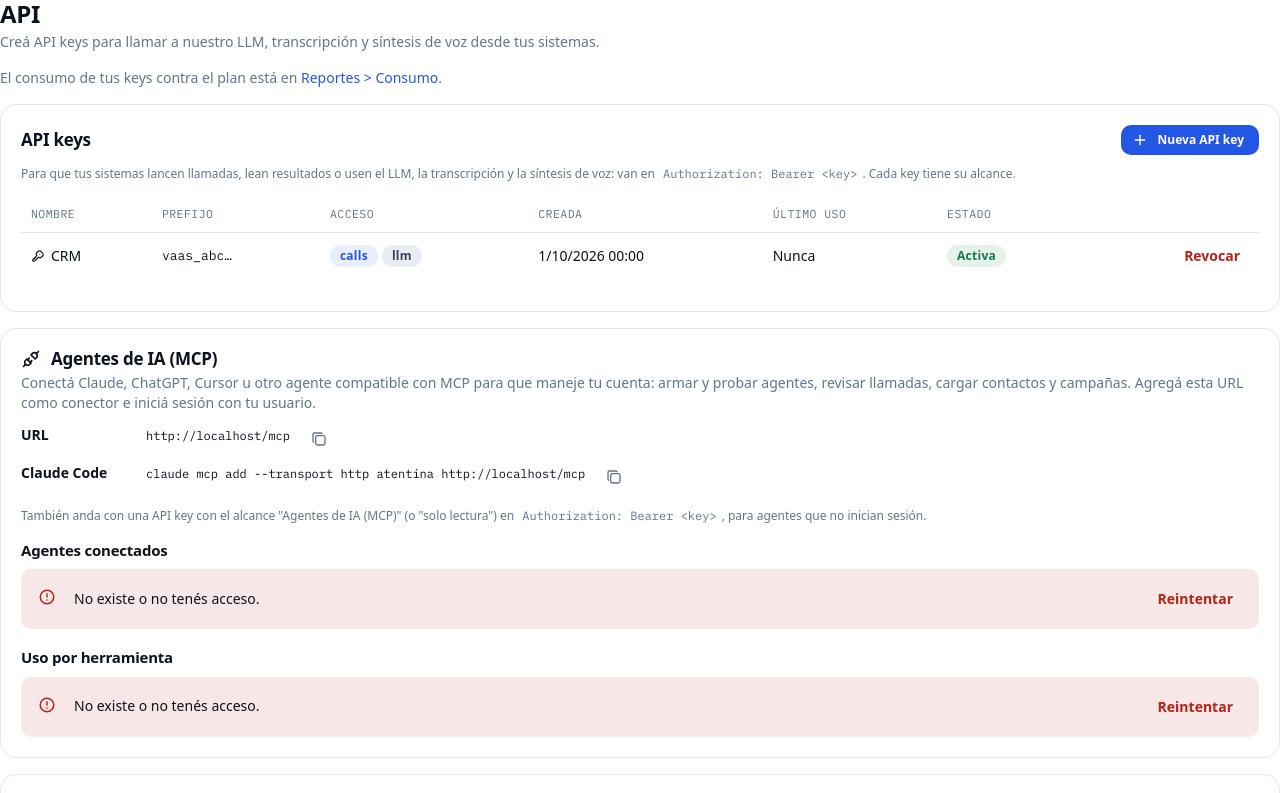
Scenario: DevelopersPage › crea una key con el alcance elegido y muestra los ejemplos de esos motores
Click the button "Nueva API key": click(1190, 140) [1121, 125, 1259, 155]
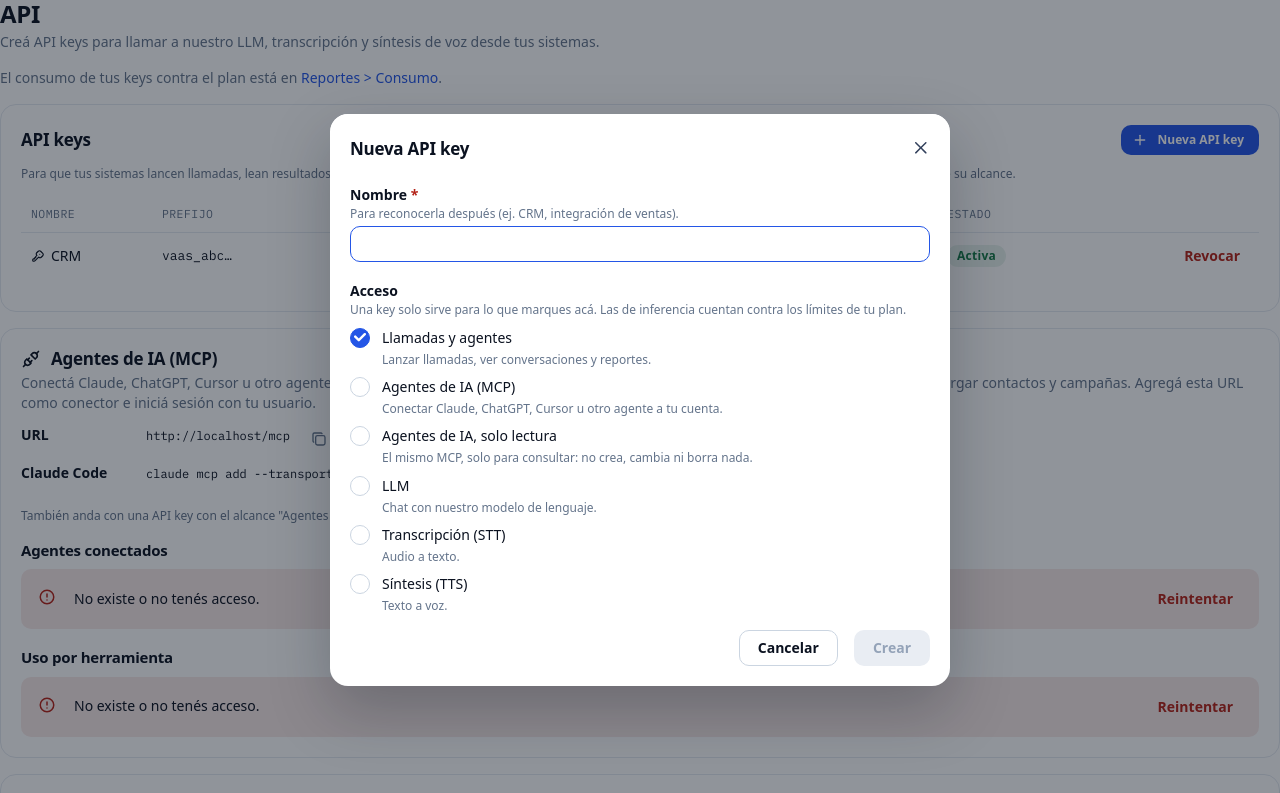
In the field labelled "Nombre *": (640, 244) [350, 226, 930, 262], type "Bot"
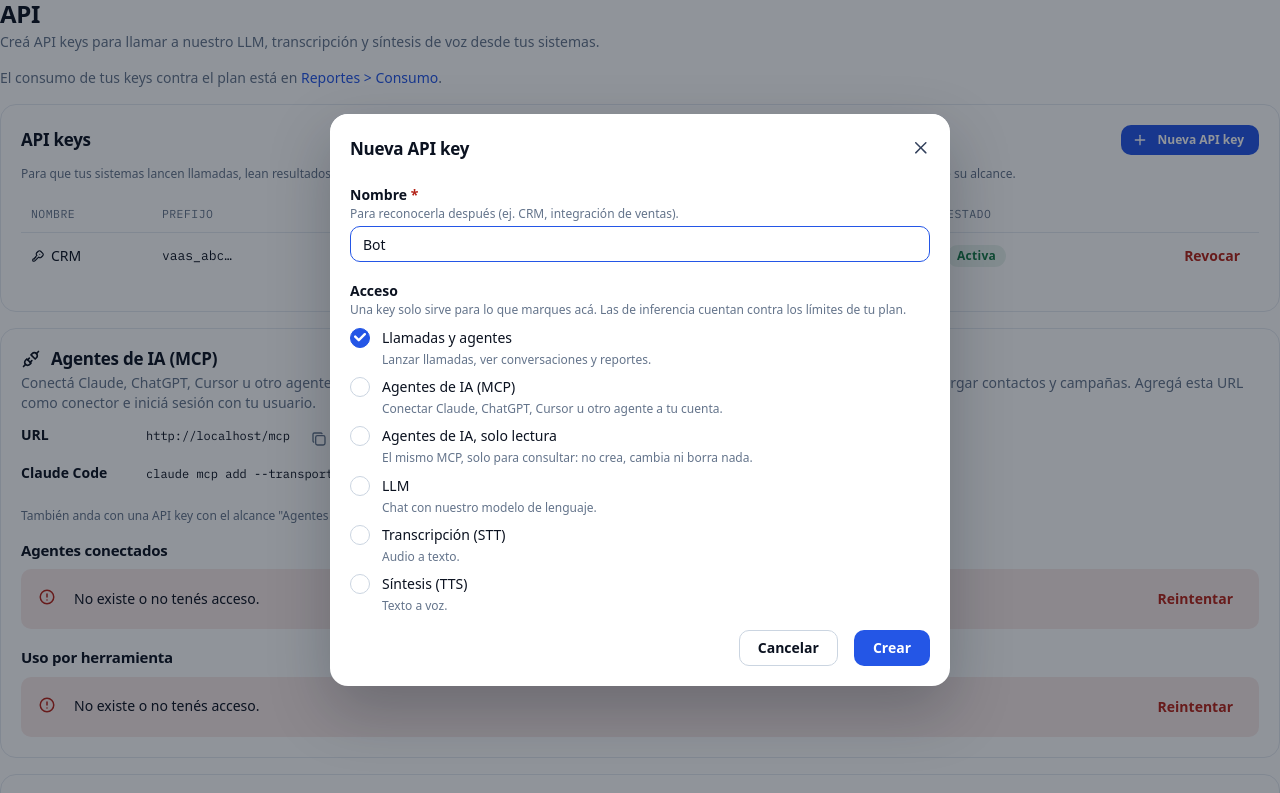
Click the checkbox labelled "Transcripción (STT)": click(360, 535) [350, 525, 370, 545]
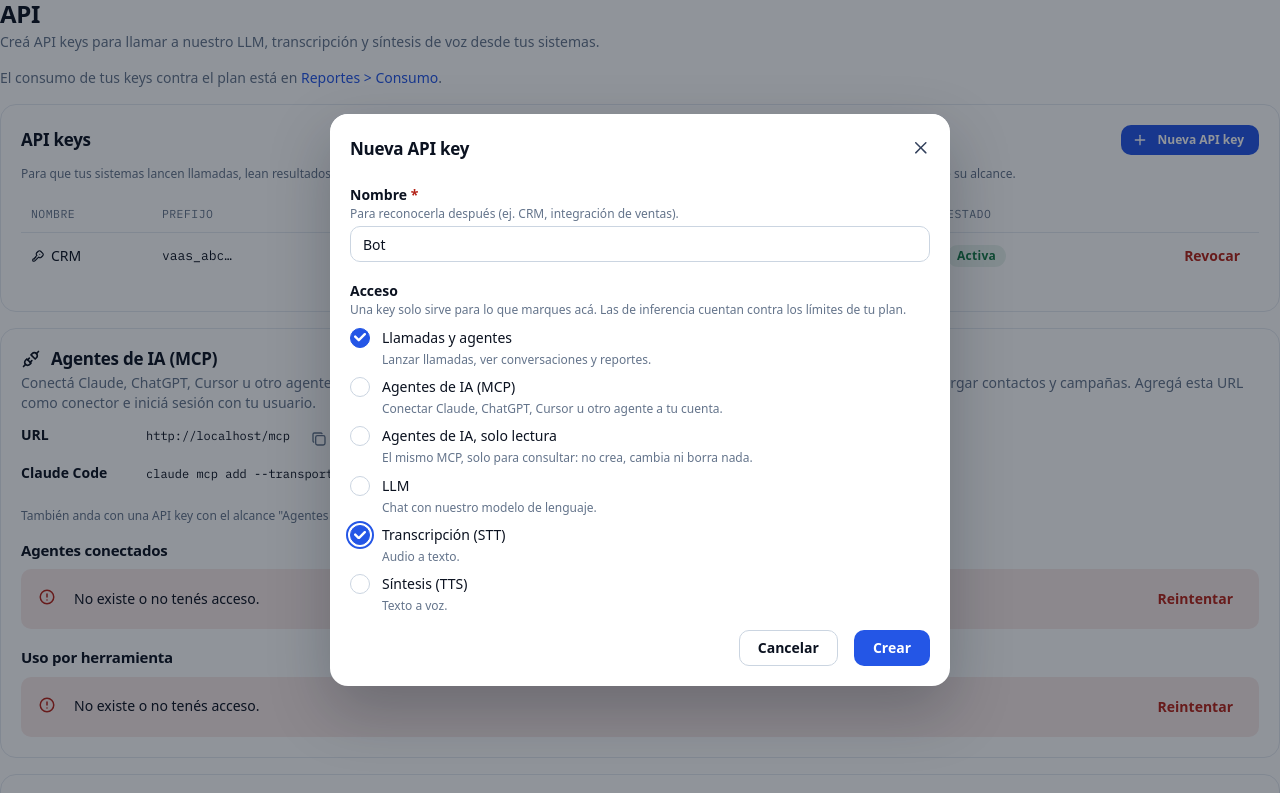
Click the checkbox labelled "Síntesis (TTS)": click(360, 584) [350, 574, 370, 594]
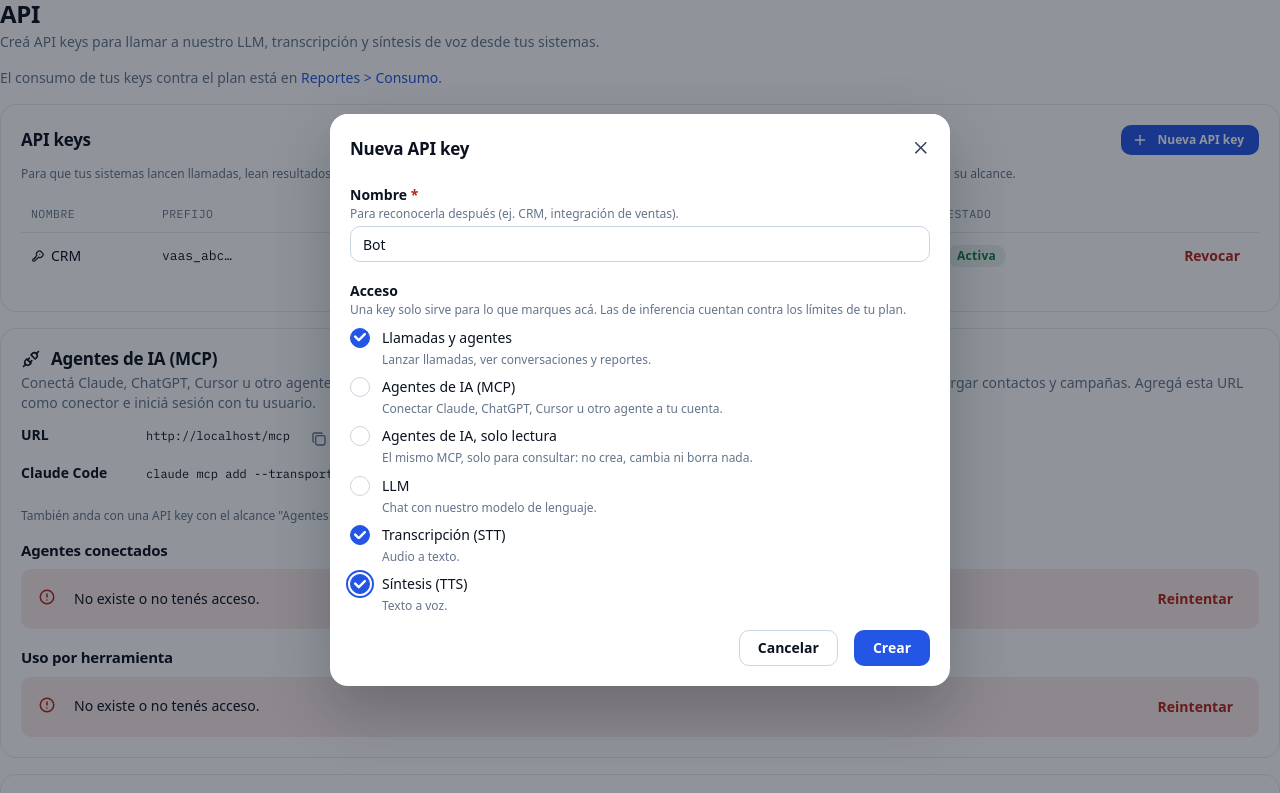
Click the checkbox labelled "Llamadas y agentes": click(360, 338) [350, 328, 370, 348]
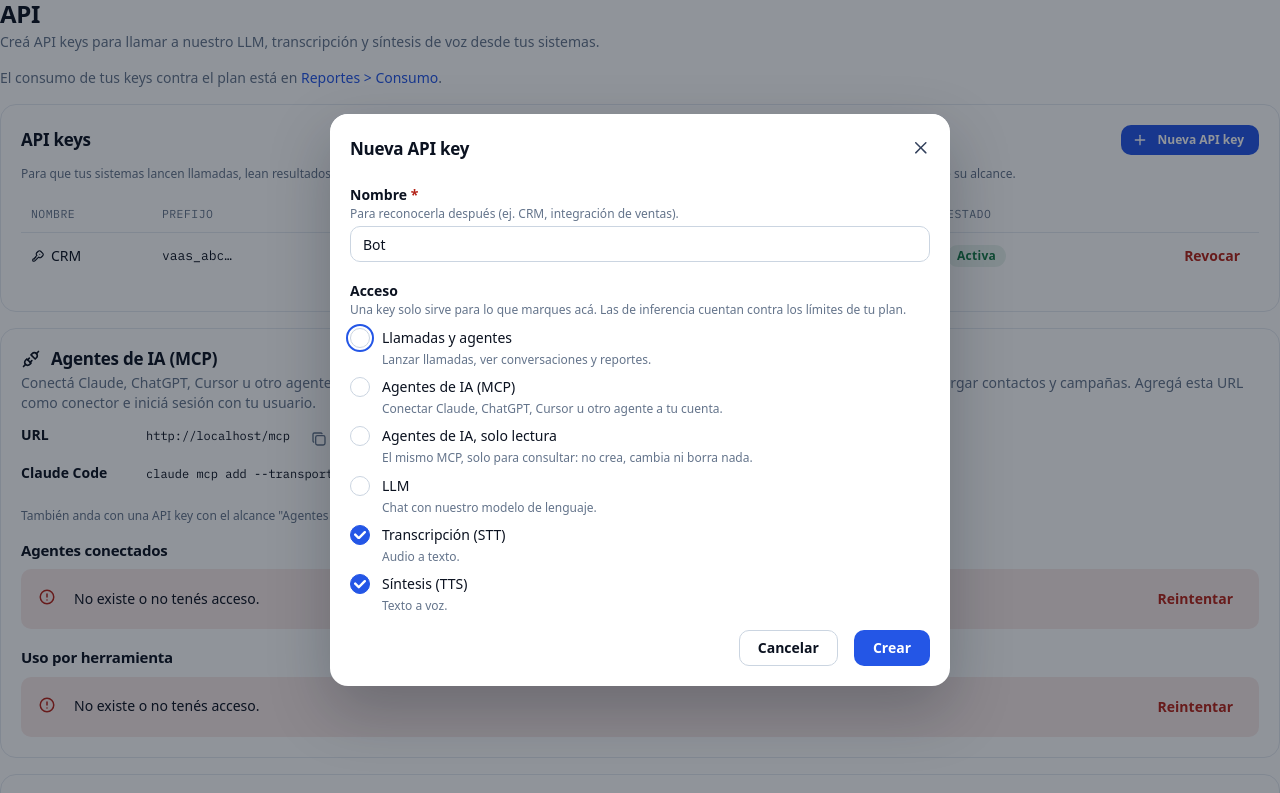
Click the button "Crear": click(892, 648) [854, 630, 930, 666]
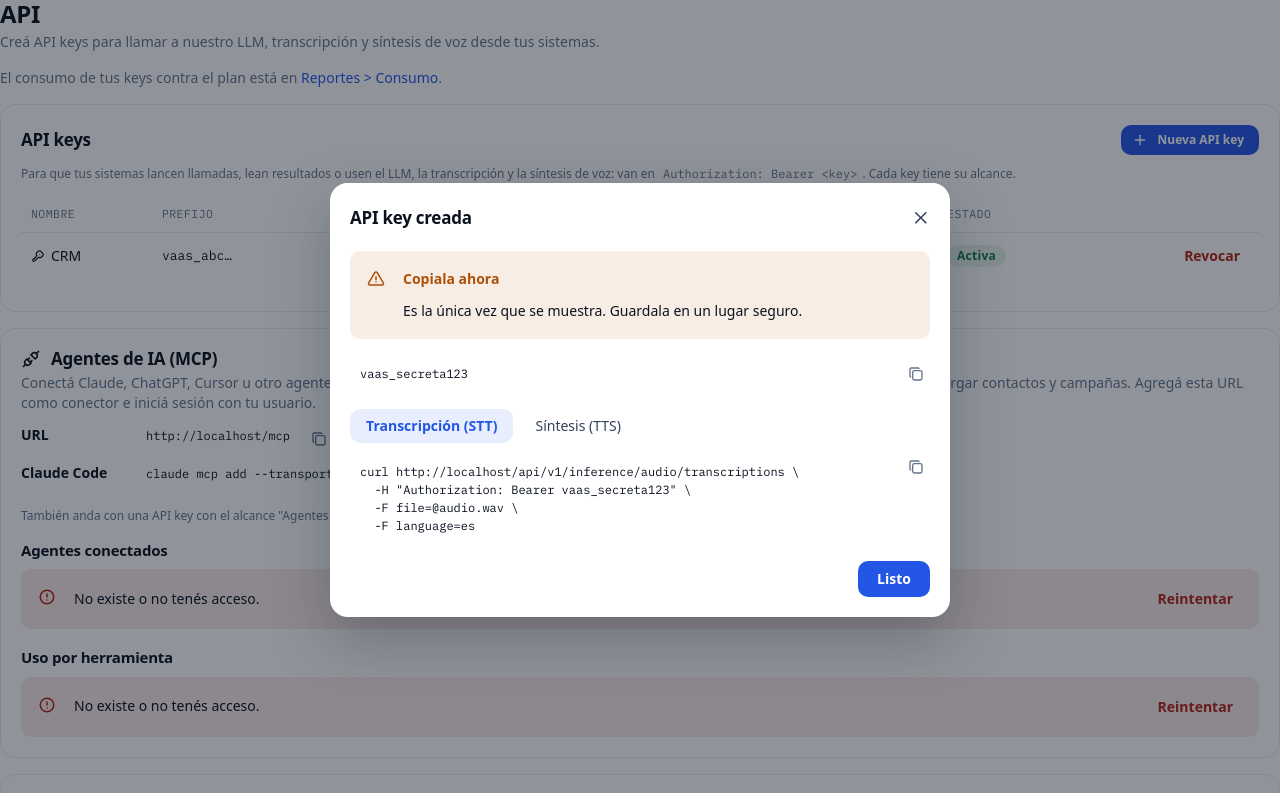
Check: the tab "Transcripción (STT)" is shown, box [350, 409, 514, 443]
Check: the tab "Síntesis (TTS)" is shown, box [520, 409, 637, 443]
Check: the text "vaas_secreta123" is shown, box [360, 366, 468, 381]
